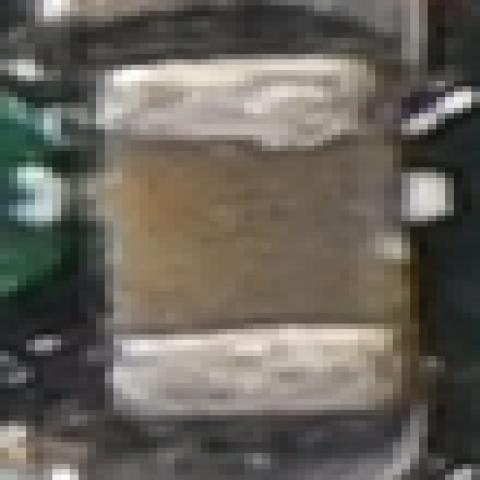Capacitor: (73, 58, 419, 422)
